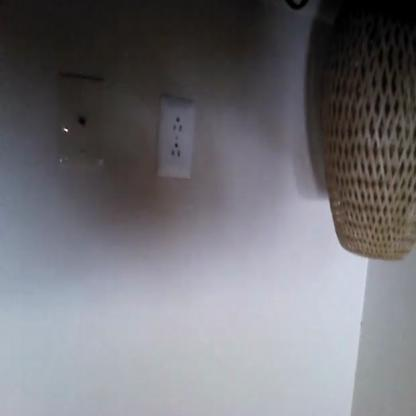OUTLET: (157, 98, 194, 180)
